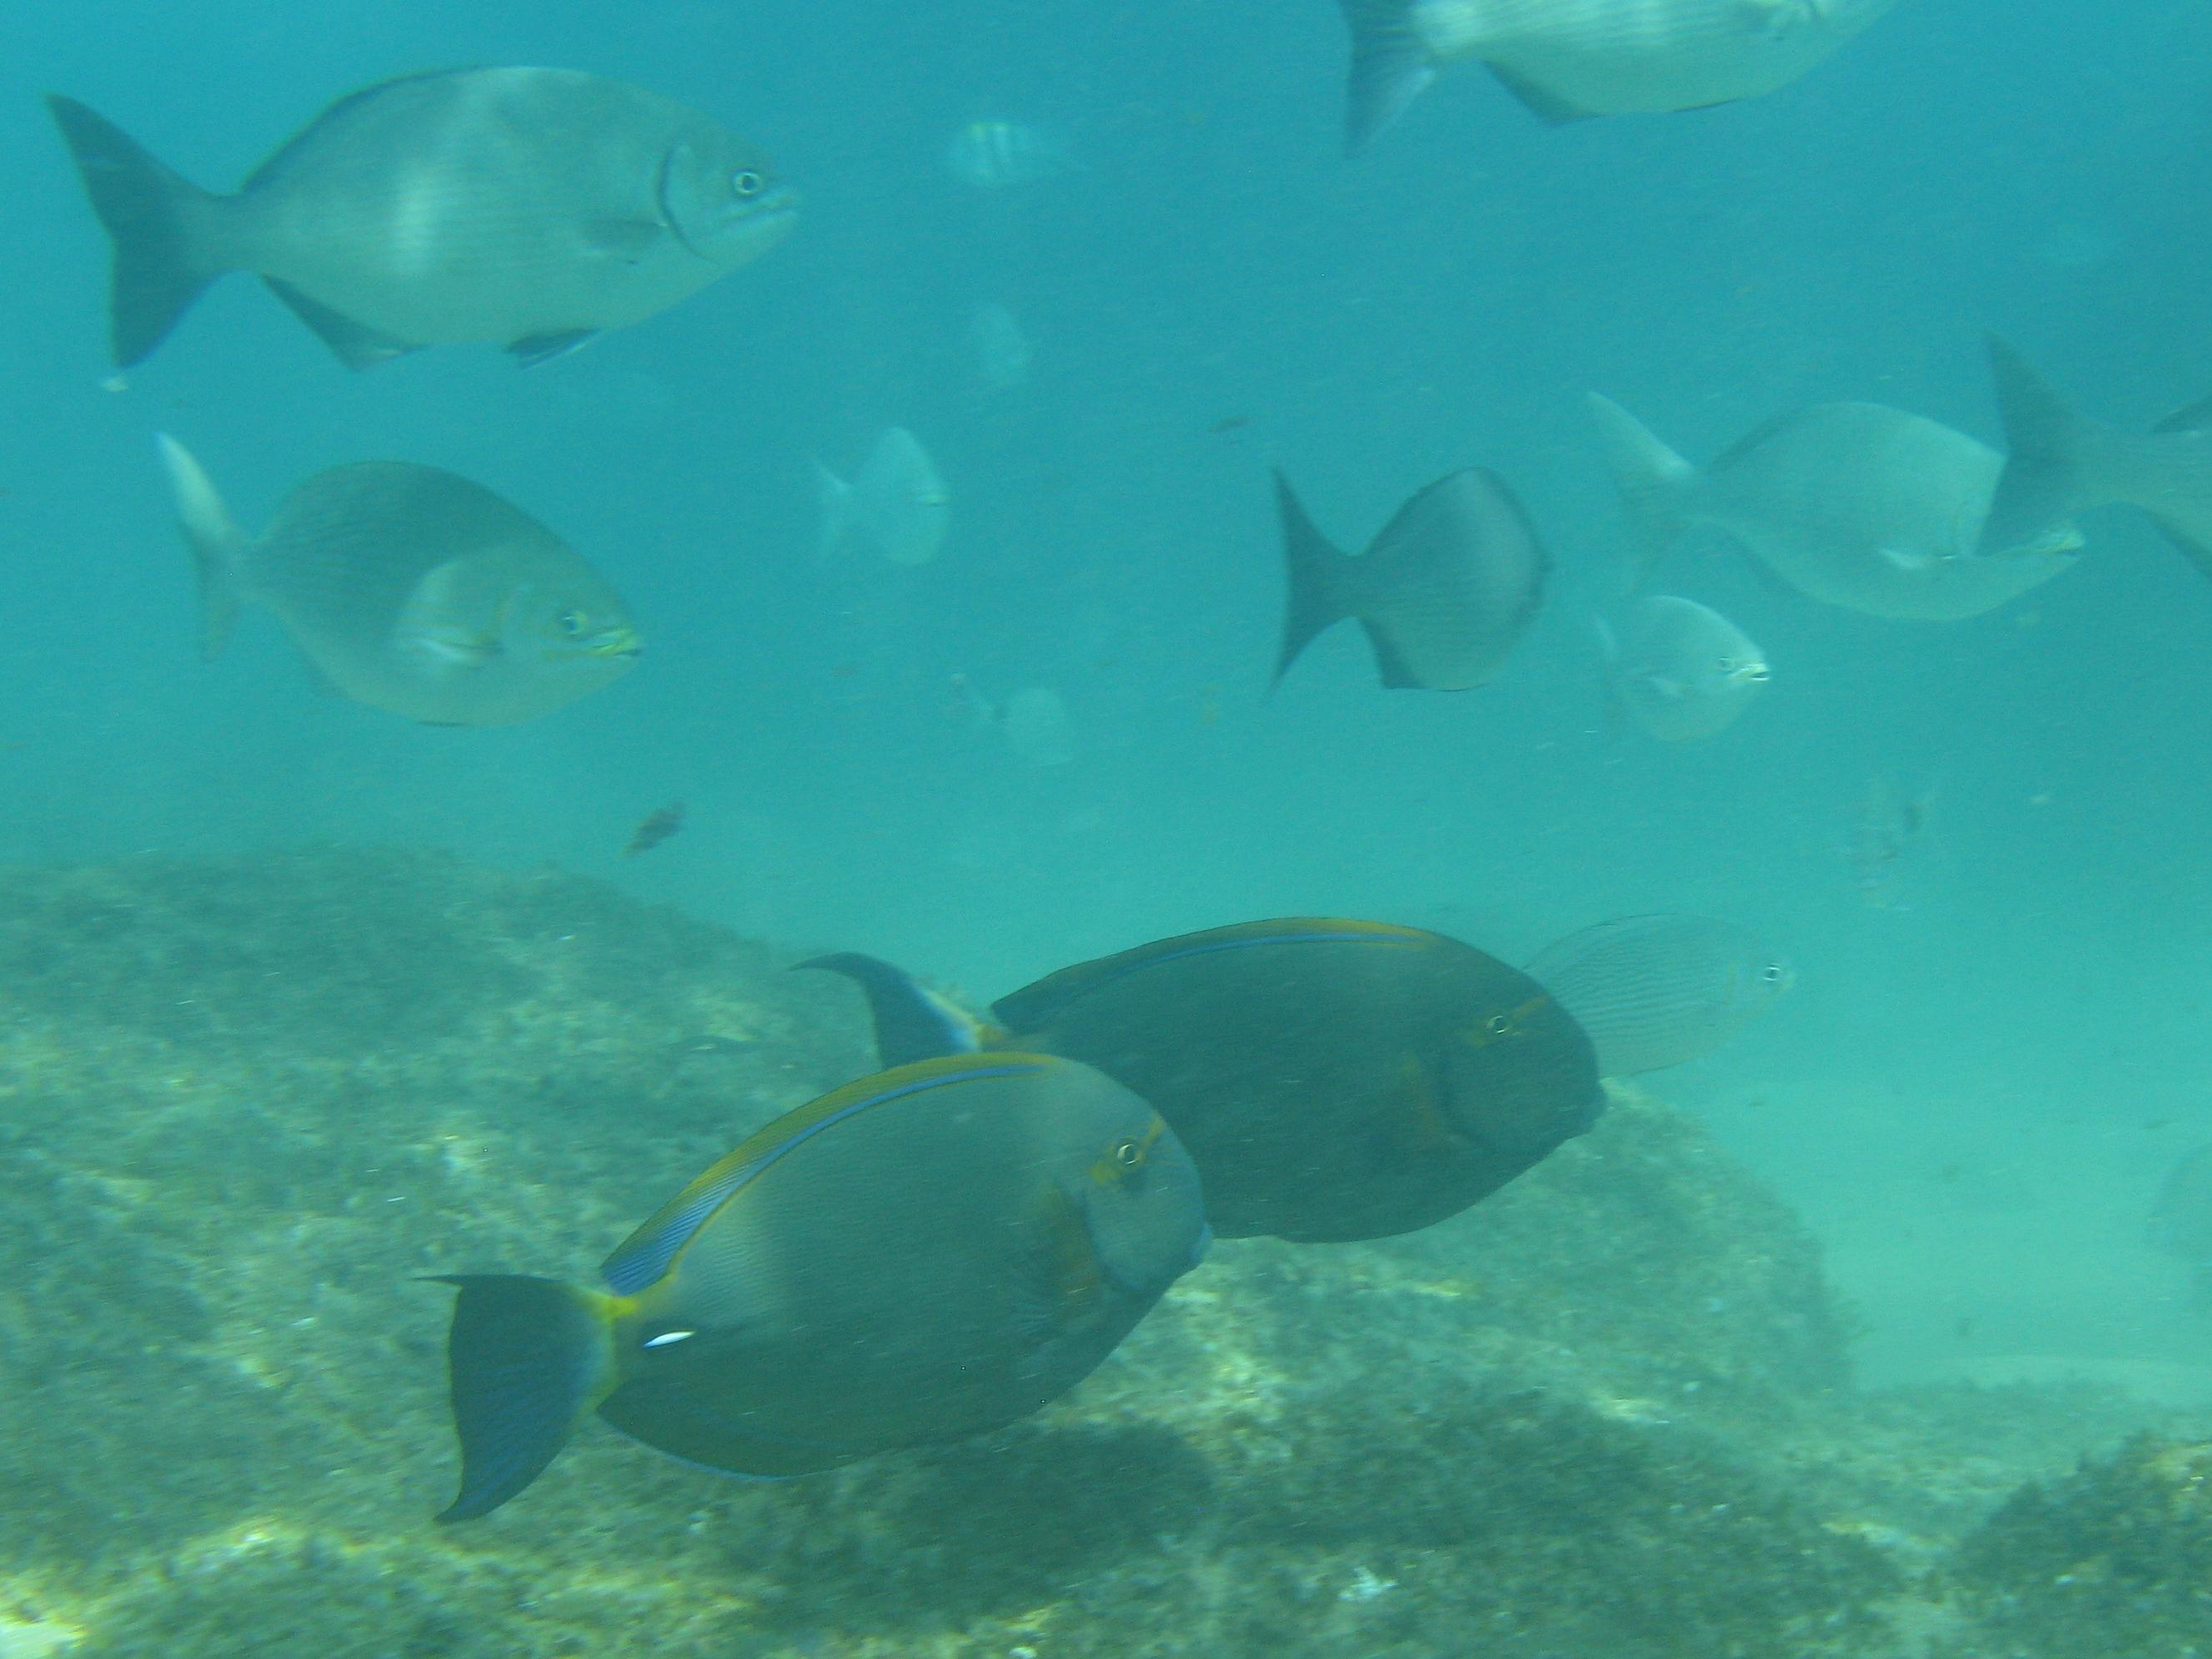Acanthurus dussumieri: (277, 1040, 1276, 1514)
